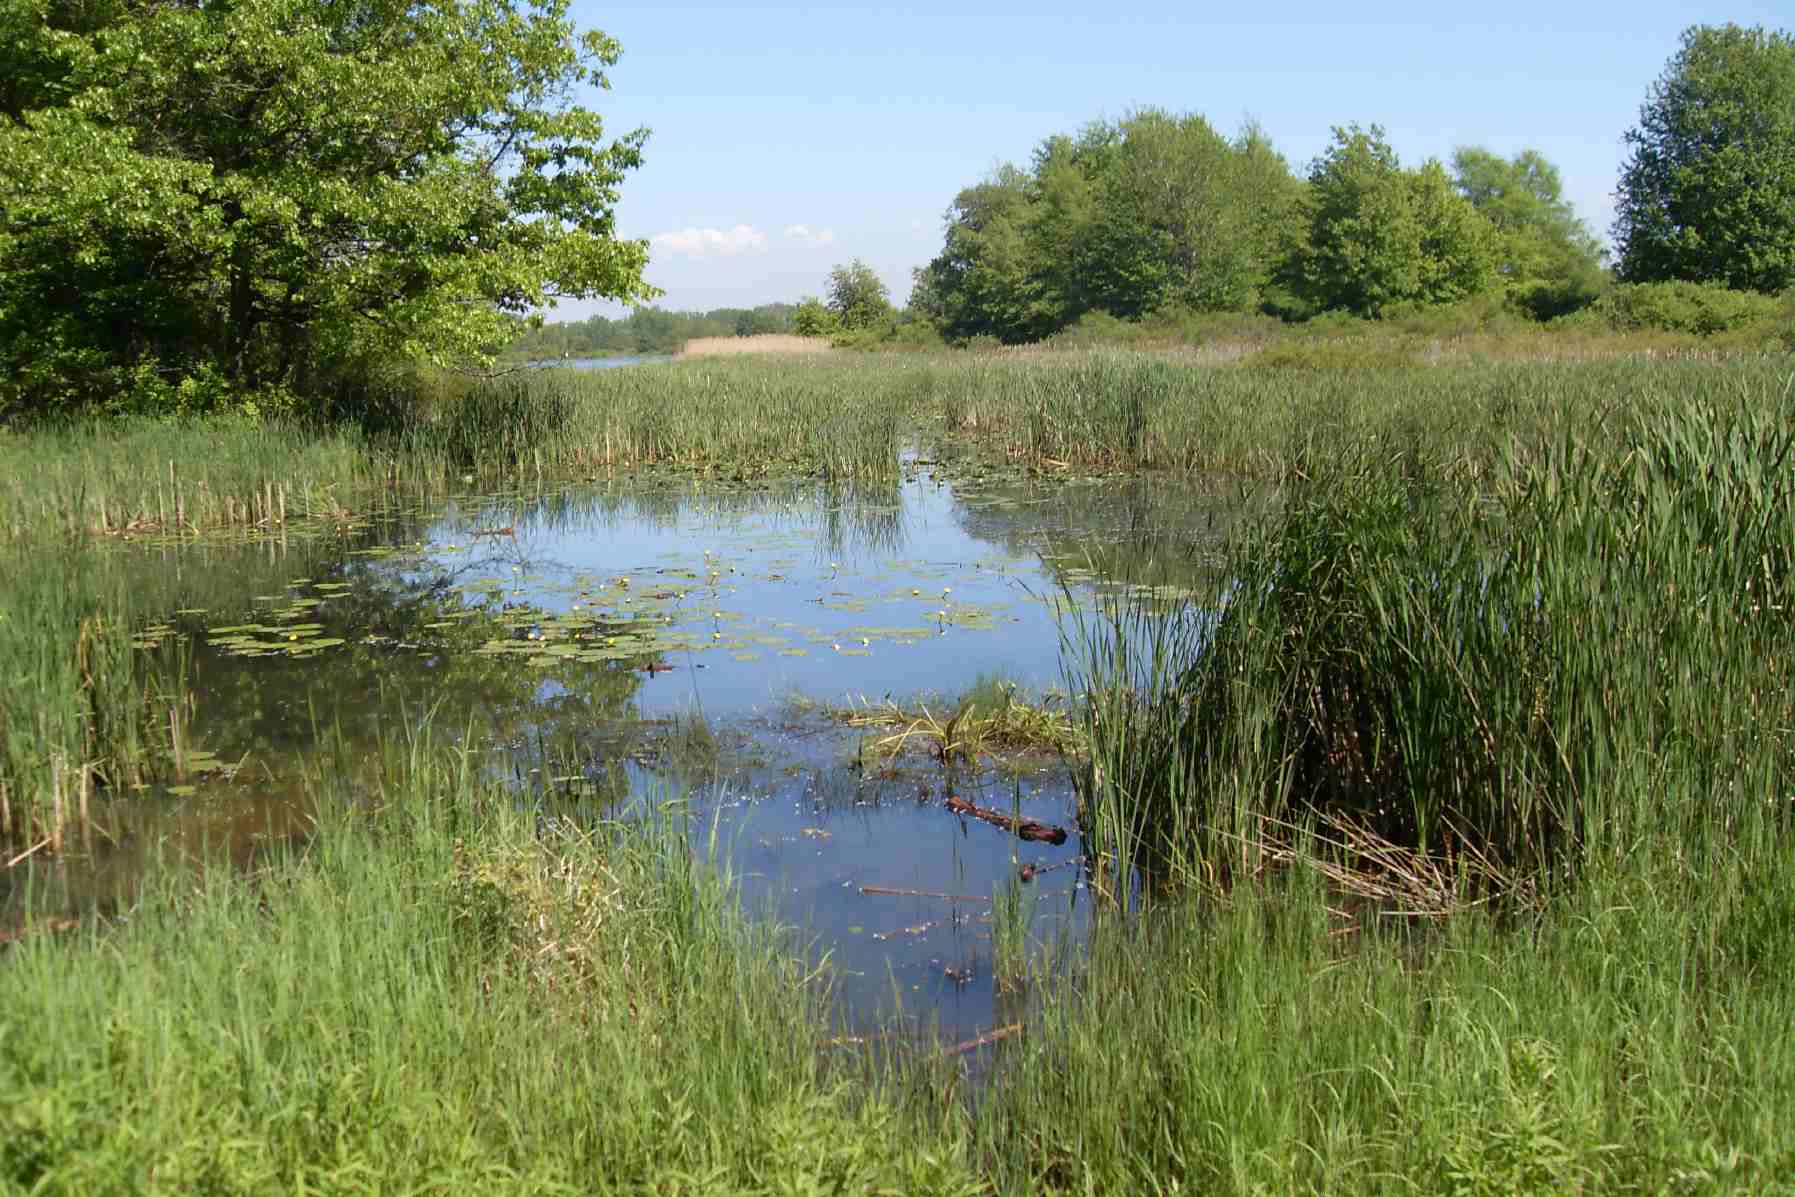sky: (533, 11, 1660, 309)
tree: (1, 5, 650, 440), (1620, 27, 1795, 291)
vegetation: (1316, 311, 1791, 1197), (5, 854, 813, 1184), (1028, 916, 1795, 1188), (971, 134, 1655, 351)
water: (1, 406, 1474, 1137), (522, 341, 660, 377)
